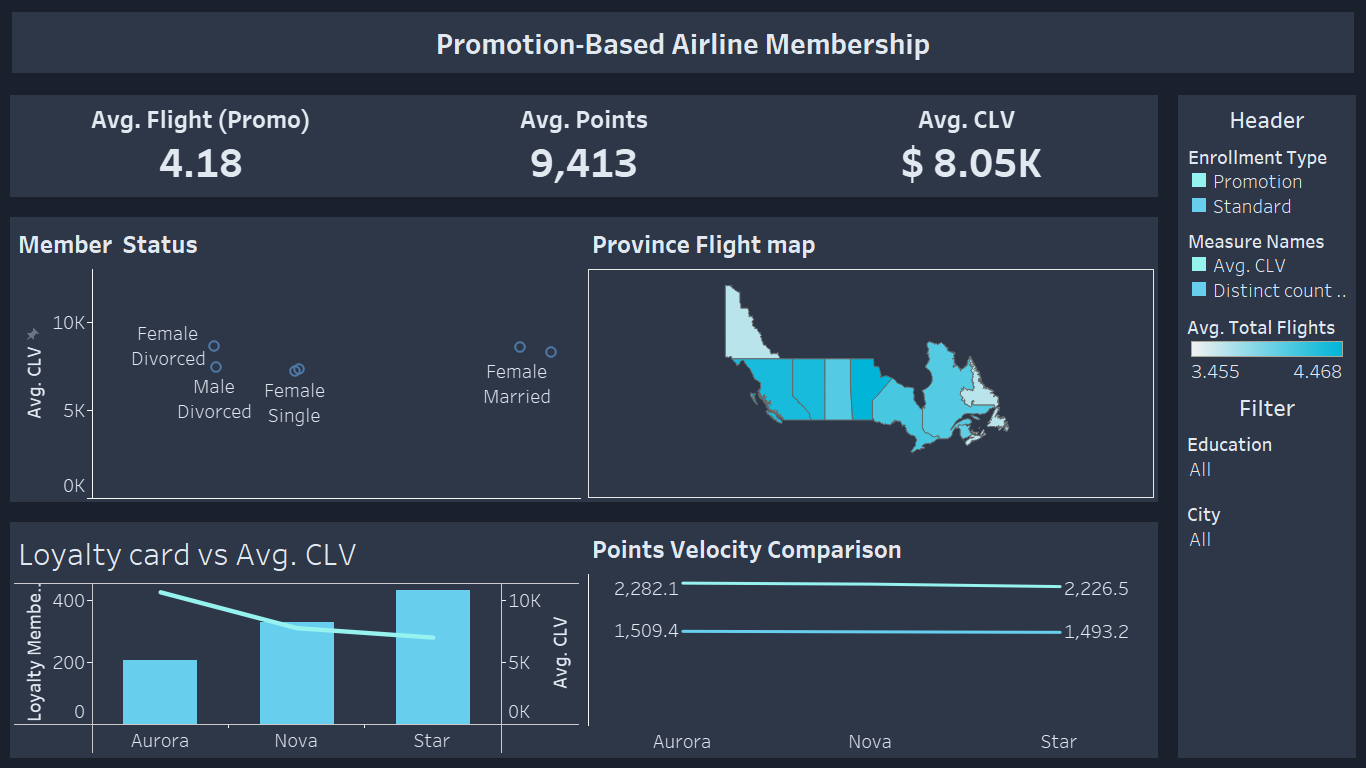

Layout of this report page (visuals, bound fields, positions):
{"tool":"tableau","page":{"name":"Promotion Based","canvas":[1366,768],"ordinal":1},"visuals":[{"type":"text","box":[0,0,1366,85]},{"type":"worksheet","title":"Avg Flight","mark":"Automatic","box":[10,95,383,102]},{"type":"worksheet","title":"Points Accumulated","mark":"Automatic","box":[393,95,383,102]},{"type":"worksheet","title":"Avg. Customer Lifetime Value","mark":"Automatic","box":[776,95,382,102]},{"type":"text","box":[1183,100,168,38]},{"type":"legend","title":"Points Velocity Comparison","param":"[federated.07njbpw0d6ebah1er6xxw08yk348].[none:Enrollment Type:nk]","box":[1183,138,168,84]},{"type":"worksheet","title":"Customer Status","mark":"Automatic","rows":["CLV"],"cols":["Loyalty Number"],"box":[10,217,574,285]},{"type":"worksheet","title":"Province Flight Map","mark":"Automatic","box":[584,217,574,285]},{"type":"legend","title":"Loyalty card vs avg. clv","param":"[federated.07njbpw0d6ebah1er6xxw08yk348].[:Measure Names]","box":[1183,222,168,84]},{"type":"legend","title":"Province Flight Map","param":"[federated.07njbpw0d6ebah1er6xxw08yk348].[avg:Total Flights:qk]","box":[1183,306,168,81]},{"type":"text","box":[1183,387,168,38]},{"type":"filter","title":"Province Flight Map","param":"[federated.07njbpw0d6ebah1er6xxw08yk348].[none:Education:nk]","box":[1183,425,168,70]},{"type":"filter","title":"Province Flight Map","param":"[federated.07njbpw0d6ebah1er6xxw08yk348].[none:City:nk]","box":[1183,495,168,70]},{"type":"worksheet","title":"Loyalty card vs avg. clv","mark":"Automatic","rows":["Loyalty Number","CLV"],"cols":["Loyalty Card"],"box":[10,522,574,236]},{"type":"worksheet","title":"Points Velocity Comparison","mark":"Line","rows":["Calculation_1843098165561434122"],"cols":["Loyalty Card"],"box":[584,522,574,236]}]}

Visuals, with their boxes in screenshot pixels (x1, y1, x2, y2), scaled from the page's 1366x768 canvas onto the 1366x768 screenshot:
text: <region>0, 0, 1365, 85</region>
"Avg Flight" worksheet: <region>10, 95, 393, 197</region>
"Points Accumulated" worksheet: <region>393, 95, 776, 197</region>
"Avg. Customer Lifetime Value" worksheet: <region>776, 95, 1158, 197</region>
text: <region>1183, 100, 1351, 138</region>
"Points Velocity Comparison" legend: <region>1183, 138, 1351, 222</region>
"Customer Status" worksheet: <region>10, 217, 584, 502</region>
"Province Flight Map" worksheet: <region>584, 217, 1158, 502</region>
"Loyalty card vs avg. clv" legend: <region>1183, 222, 1351, 306</region>
"Province Flight Map" legend: <region>1183, 306, 1351, 387</region>
text: <region>1183, 387, 1351, 425</region>
"Province Flight Map" filter: <region>1183, 425, 1351, 495</region>
"Province Flight Map" filter: <region>1183, 495, 1351, 565</region>
"Loyalty card vs avg. clv" worksheet: <region>10, 522, 584, 758</region>
"Points Velocity Comparison" worksheet (Line marks): <region>584, 522, 1158, 758</region>
